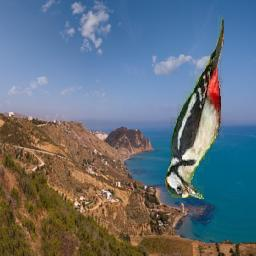Woodpecker: (166, 15, 225, 200)
